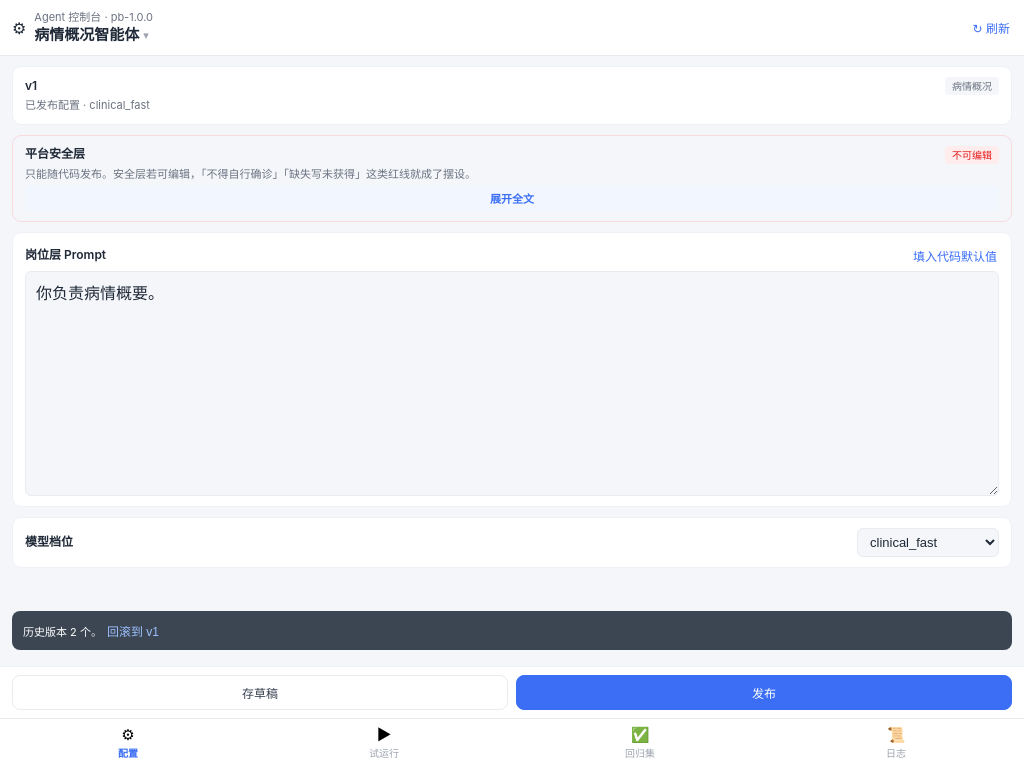
Scenario: 控制台移动端 · 骨架 › 六个岗位的侧栏放不下，改成顶部点开的选择器
Click the button "病情概况智能体 ▾". click: (94, 36)
box: [34,26,153,45]
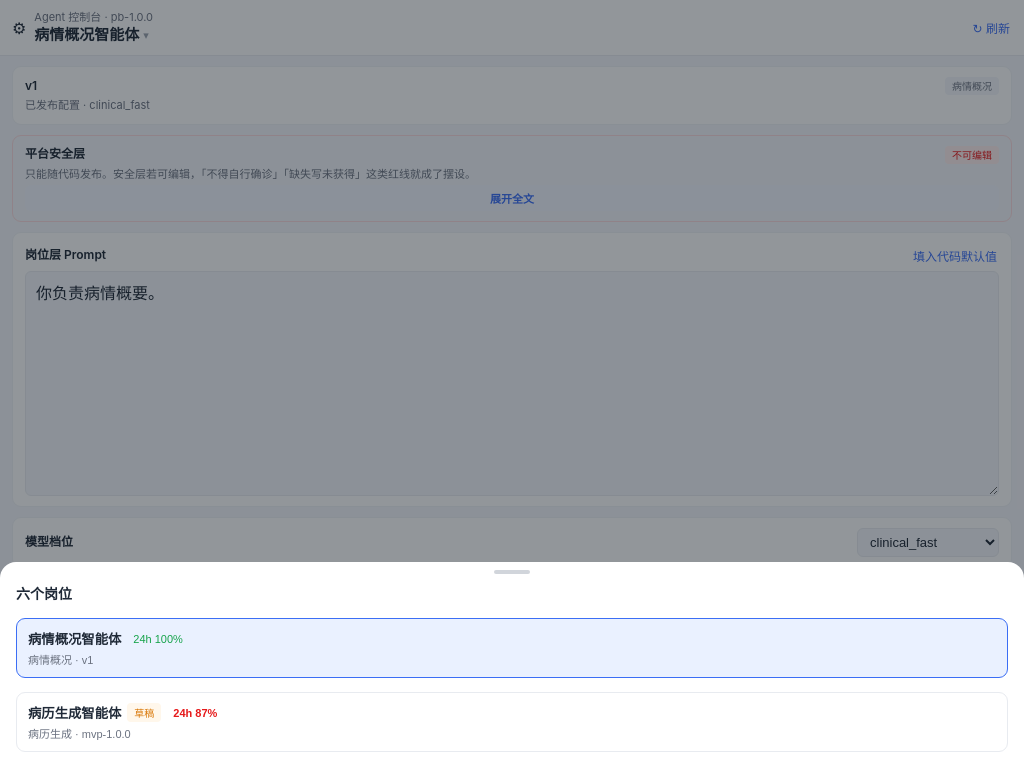
Now the element that starts with "六个岗位" is shown, box [0,562,1023,767]
